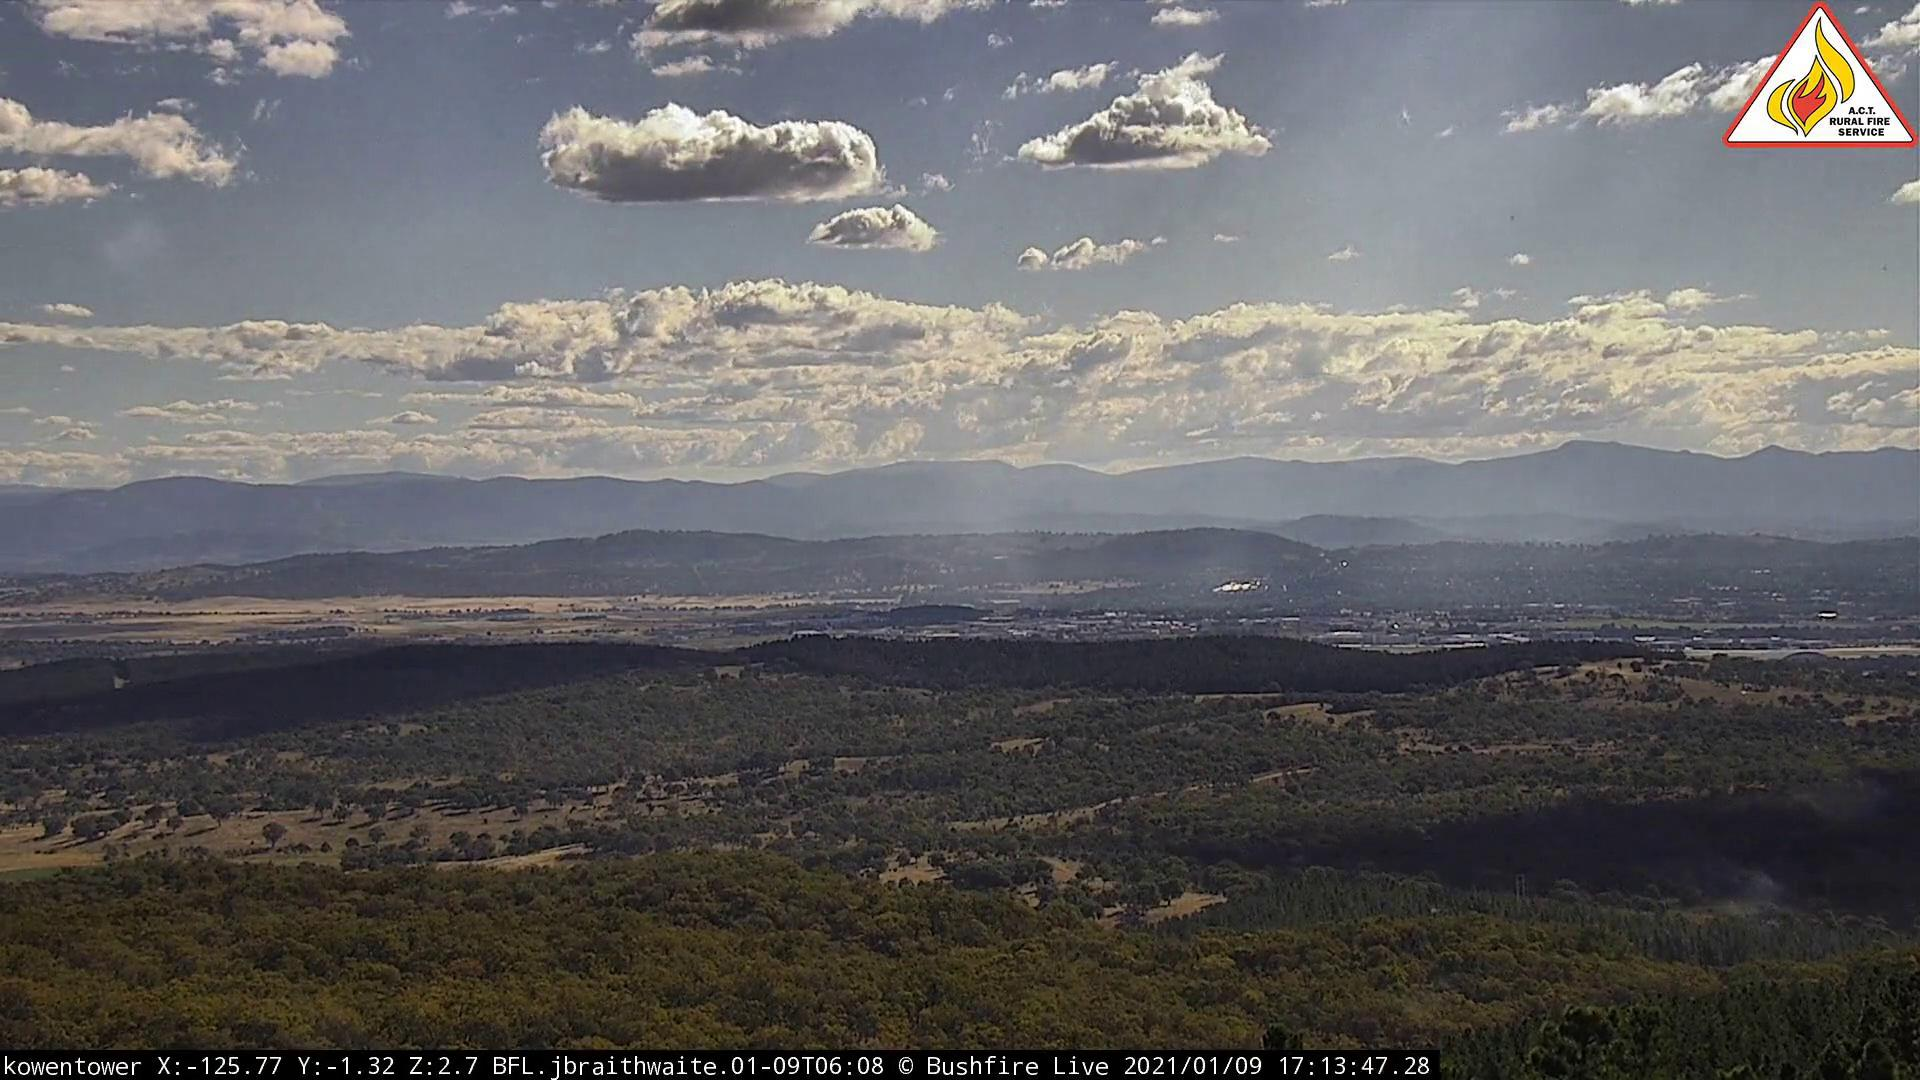instance_salient_object: (840, 520, 1022, 605)
